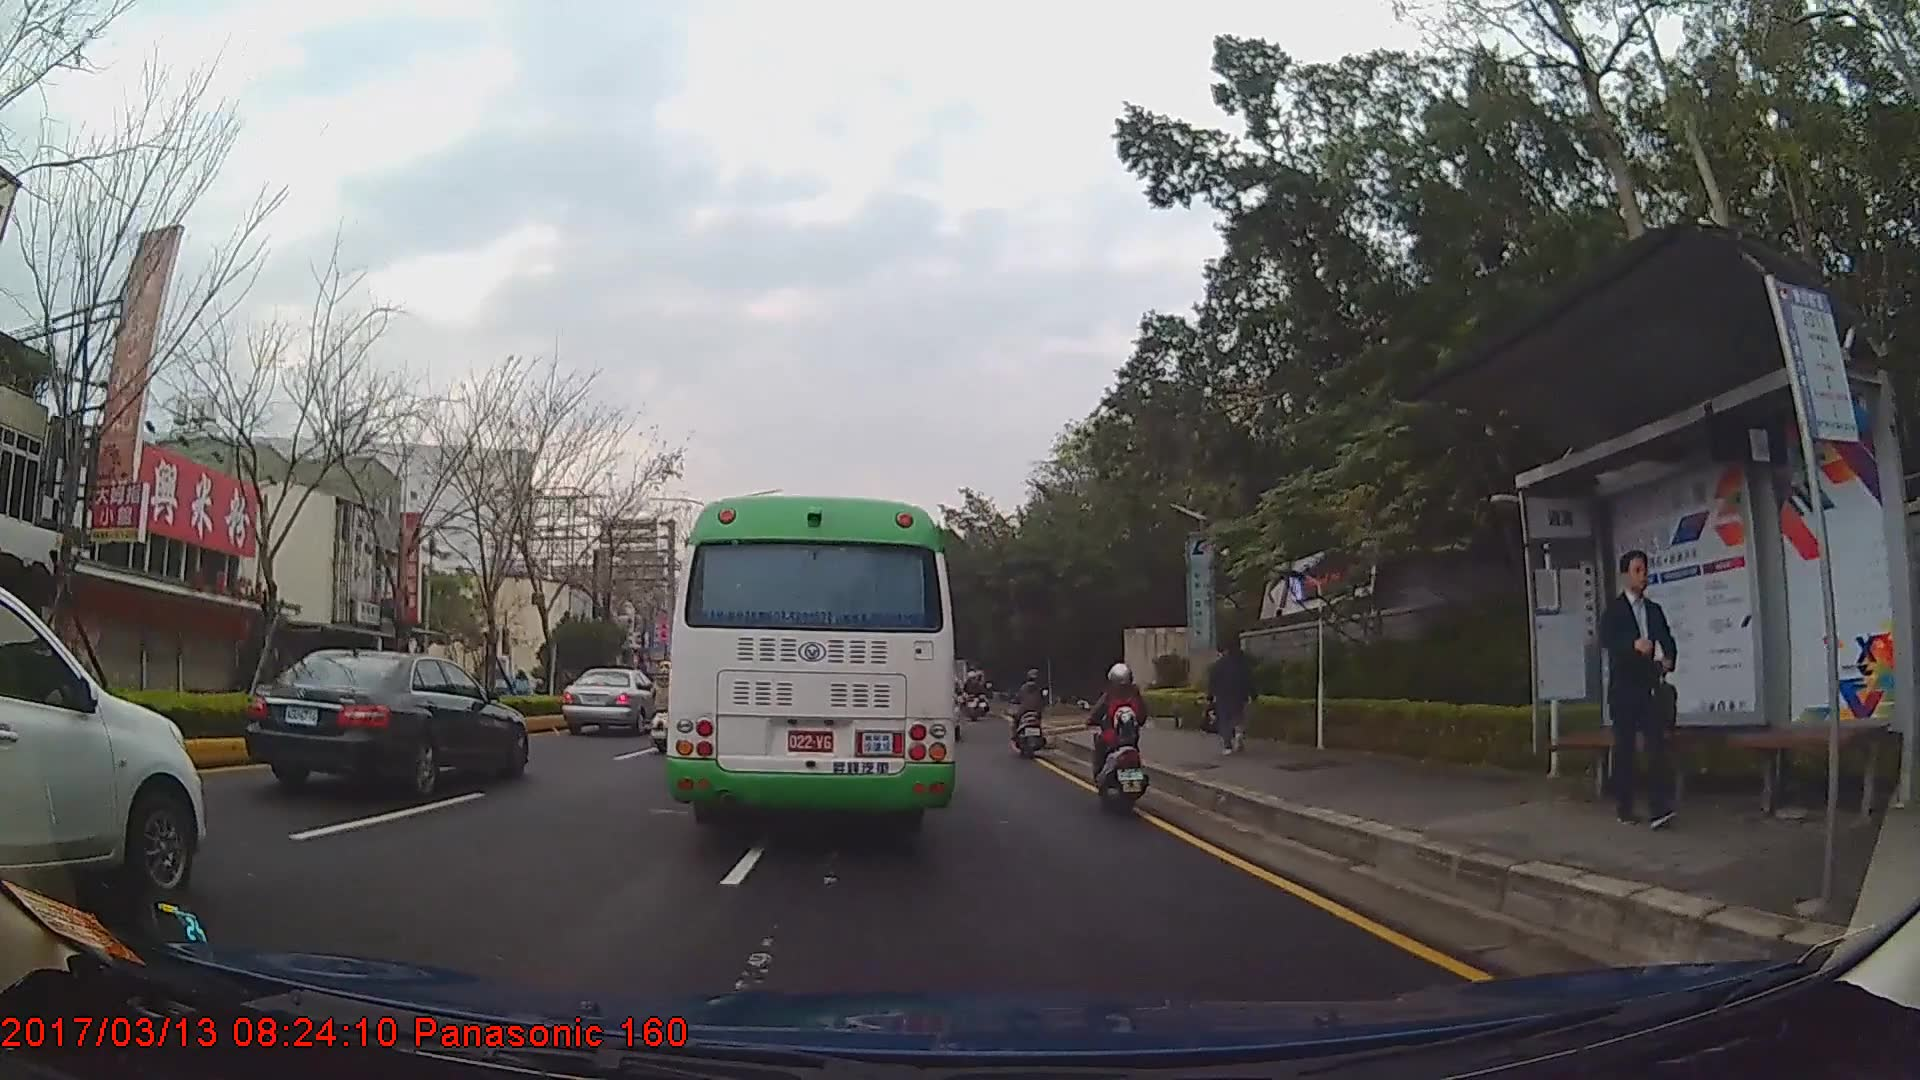pedestrian: (1601, 554, 1681, 832), (1203, 637, 1261, 764)
rider: (1088, 662, 1150, 817), (1010, 667, 1051, 760), (650, 659, 681, 746), (963, 673, 983, 713)
vehicle: (665, 499, 955, 840), (0, 580, 206, 904), (243, 645, 529, 801), (562, 664, 661, 737)
